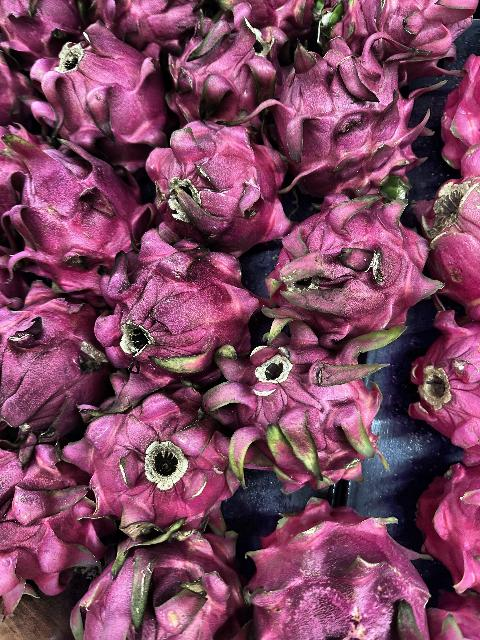buah-naga-matang: (211, 304, 383, 480), (238, 498, 436, 640), (268, 185, 430, 337), (1, 134, 154, 288), (263, 39, 423, 185), (80, 381, 228, 535), (100, 228, 250, 369), (141, 113, 291, 239), (0, 427, 108, 599), (77, 526, 237, 640), (34, 29, 168, 155), (0, 284, 110, 428), (170, 13, 278, 113), (414, 302, 480, 454), (327, 0, 470, 68), (418, 168, 480, 320), (418, 456, 480, 596), (87, 0, 195, 44), (1, 1, 74, 54)
